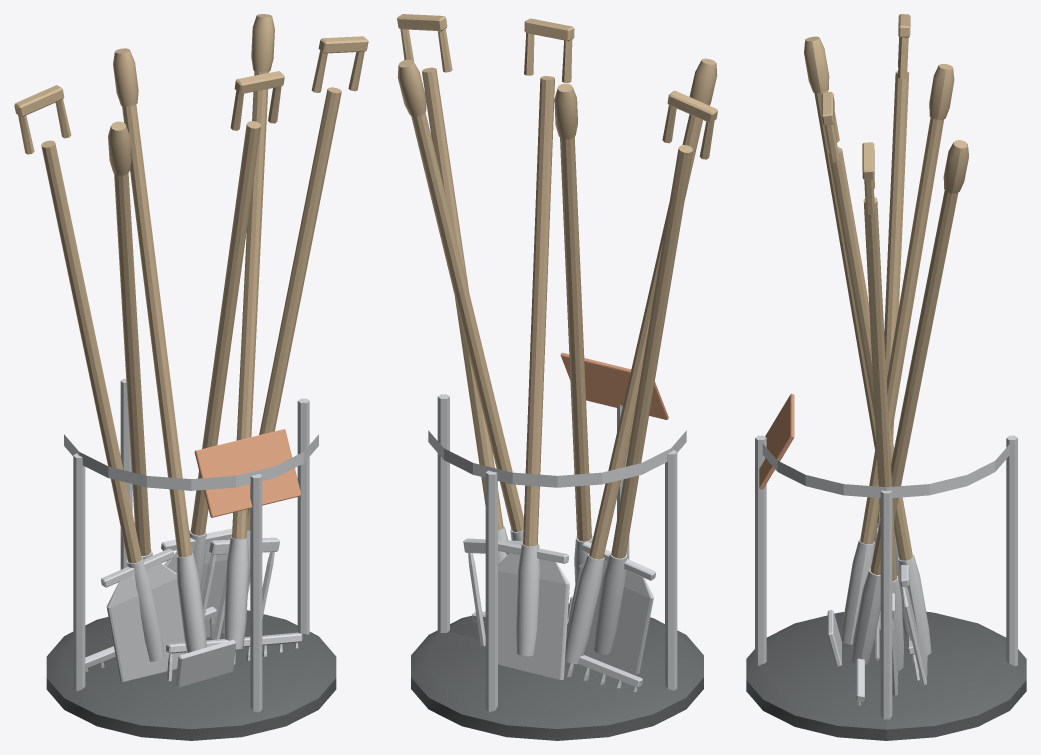
Rendered from garden-centre-and-florist-long-handled-tool-bin-9abbdaea__17752.glb.
3 views of the same model, side by side, from view 1: azimuth 30°, elevation 25°; view 2: azimuth 150°, elevation 25°; view 3: azimuth 270°, elevation 25° (orthographic). The views are drawn at different scales.
Parts seen in each view (by area): view 1: long-handled-tool-bin; view 2: long-handled-tool-bin; view 3: long-handled-tool-bin.
Boxes of the visible parts, x1,y1,x2,y2 form: long-handled-tool-bin: (14,14,368,740); long-handled-tool-bin: (397,14,717,740); long-handled-tool-bin: (746,14,1026,740).
Size of the model in its own units: 0.8859 by 1.58 by 0.6697.
